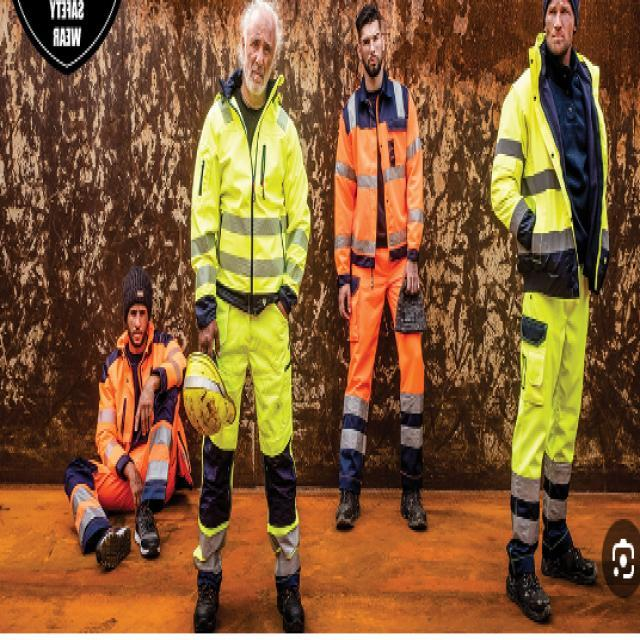boots: (503, 530, 603, 630), (187, 557, 307, 637), (332, 459, 430, 540), (93, 487, 167, 581)
vest: (179, 61, 311, 335), (489, 27, 613, 303), (323, 68, 425, 292), (95, 317, 189, 476)
